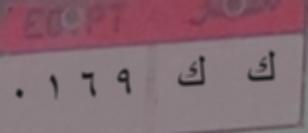0: (12, 83, 29, 105)
1: (43, 69, 65, 102)
6: (78, 67, 100, 102)
9: (115, 65, 133, 101)
kaaf: (242, 44, 280, 92), (173, 51, 210, 98)
